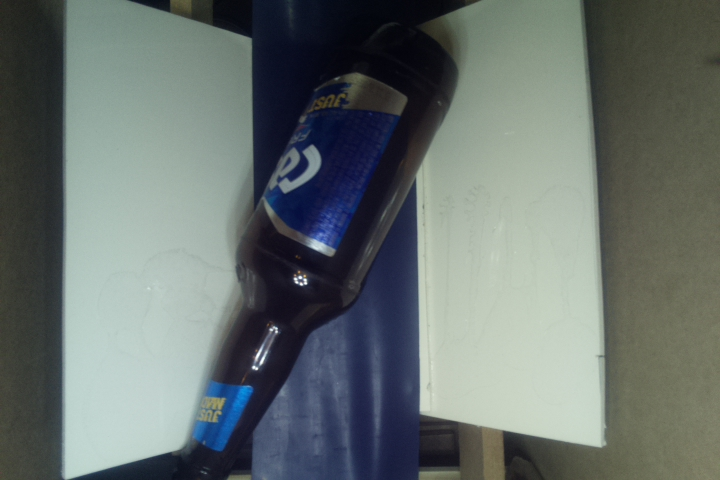makju: (177, 19, 464, 476)
